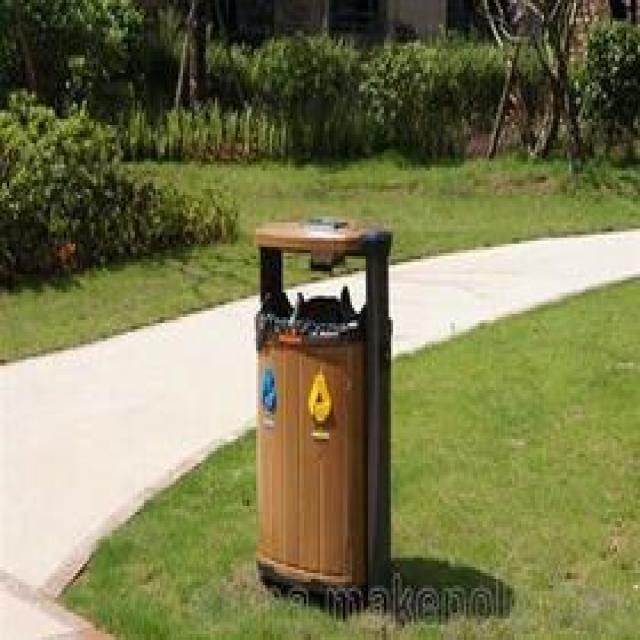garbage_bin: (251, 222, 391, 612)
